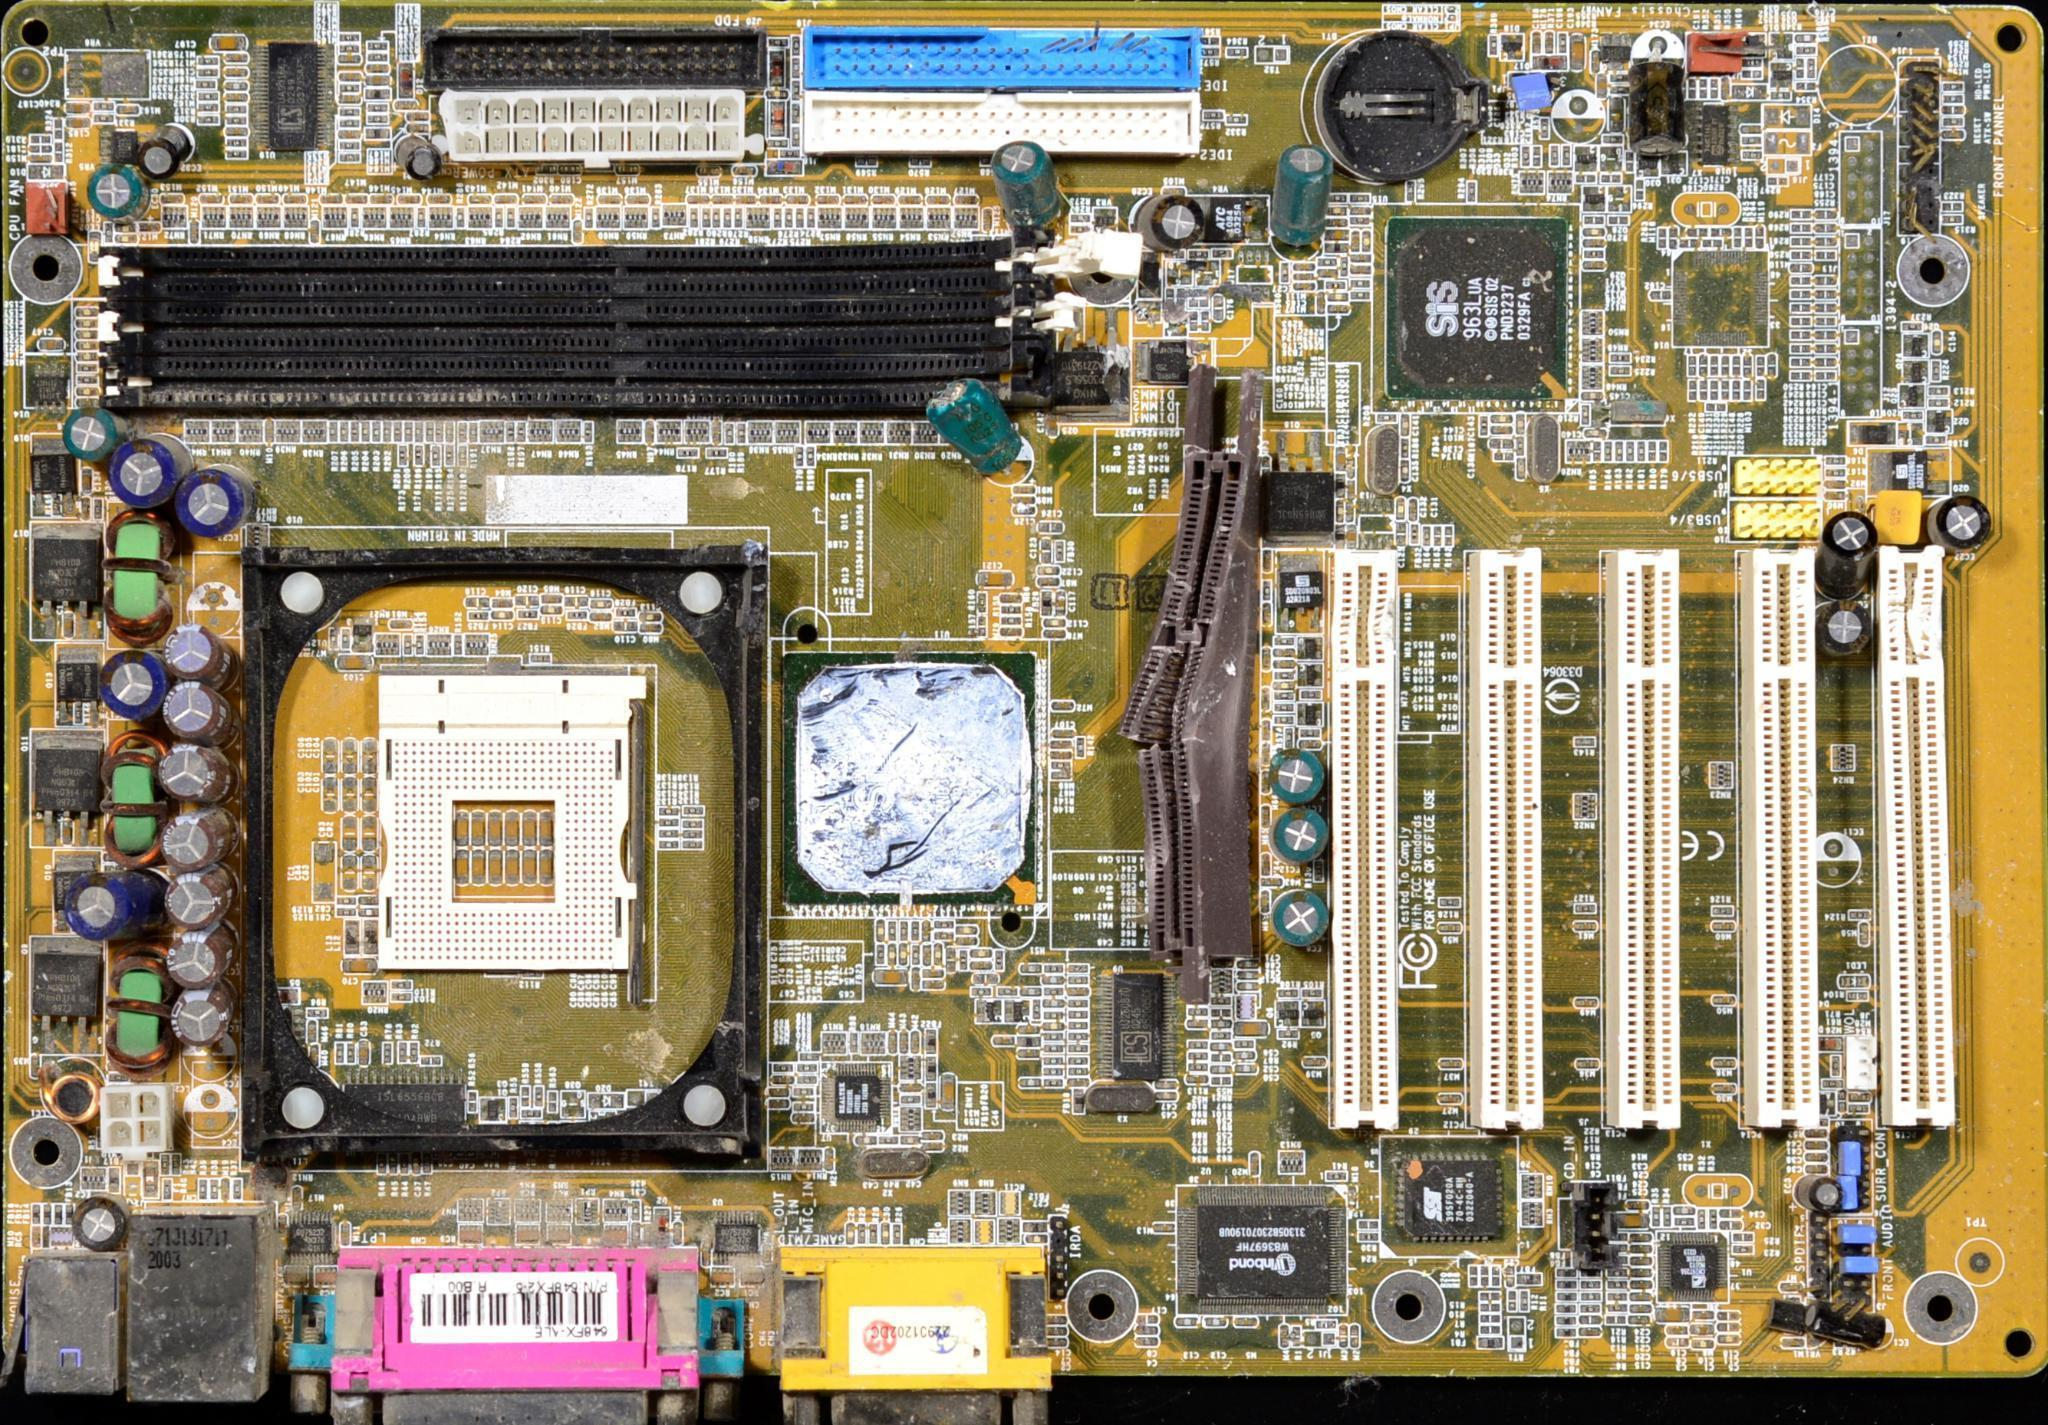Capacitor: (180, 463, 247, 547), (106, 437, 179, 507), (96, 651, 168, 719), (156, 740, 226, 802), (56, 410, 127, 470), (159, 621, 223, 682), (1271, 805, 1330, 868), (1271, 746, 1329, 806), (1272, 890, 1331, 944), (161, 684, 216, 738), (831, 1074, 886, 1116), (312, 839, 337, 900), (207, 33, 250, 51), (335, 654, 376, 672), (339, 857, 358, 891), (361, 739, 378, 774), (341, 818, 358, 852), (1654, 1307, 1691, 1322), (343, 817, 358, 852), (324, 776, 339, 811), (361, 779, 377, 814), (873, 969, 907, 984), (1609, 97, 1624, 131), (322, 740, 338, 774), (346, 777, 359, 814), (344, 958, 377, 974), (1234, 1021, 1268, 1035), (1572, 34, 1585, 71), (35, 338, 65, 351), (362, 816, 374, 854), (344, 742, 357, 774), (1583, 226, 1607, 241), (358, 1040, 370, 1068), (1323, 229, 1349, 241), (225, 67, 252, 79), (118, 104, 143, 116), (1557, 29, 1569, 53), (897, 941, 907, 967), (1804, 1139, 1830, 1150), (66, 102, 90, 113), (225, 105, 248, 116), (1026, 1232, 1047, 1244), (1632, 1290, 1654, 1302), (1135, 1337, 1159, 1347), (1057, 590, 1066, 617), (1713, 1058, 1736, 1069), (65, 116, 89, 128), (1631, 1254, 1654, 1264), (1630, 1267, 1652, 1277), (1134, 1325, 1158, 1336), (366, 64, 389, 75), (1692, 1322, 1712, 1334), (1043, 618, 1069, 627), (1438, 923, 1460, 933), (632, 1199, 643, 1221), (1695, 1312, 1716, 1322), (1204, 1315, 1227, 1325), (1324, 217, 1346, 227), (1328, 304, 1350, 314), (1803, 1153, 1829, 1162), (1666, 1326, 1692, 1334), (1038, 565, 1063, 574), (1069, 987, 1089, 997), (1691, 1338, 1712, 1348), (1350, 264, 1370, 275), (1327, 293, 1347, 303), (1544, 31, 1554, 51), (1597, 75, 1606, 98), (1687, 76, 1696, 100), (227, 95, 250, 104), (1438, 1059, 1461, 1069), (1629, 1279, 1653, 1288), (1717, 1334, 1740, 1344), (1647, 439, 1656, 462), (1574, 998, 1600, 1006), (1804, 1164, 1830, 1172), (1173, 1318, 1200, 1326), (224, 55, 251, 63), (1017, 1025, 1037, 1036), (1713, 1085, 1735, 1093), (881, 1223, 890, 1244), (1351, 230, 1360, 252), (1315, 292, 1325, 314), (1932, 333, 1940, 354), (1659, 441, 1668, 462), (1574, 922, 1598, 930), (336, 55, 361, 63), (339, 72, 364, 80), (876, 919, 885, 940), (993, 1035, 1013, 1044), (1439, 1094, 1460, 1103), (1293, 272, 1313, 281), (923, 980, 946, 988), (1711, 996, 1733, 1004), (1806, 1118, 1828, 1127), (1806, 1130, 1828, 1137), (1630, 1234, 1652, 1241), (1628, 1314, 1651, 1322), (1234, 1317, 1257, 1325), (1280, 1326, 1287, 1348), (1292, 1326, 1300, 1349), (1348, 207, 1371, 214), (1362, 231, 1370, 254), (1533, 33, 1540, 56), (1326, 206, 1345, 214), (225, 83, 248, 90), (846, 1222, 855, 1244), (1630, 1305, 1651, 1313), (1317, 1321, 1338, 1329), (1636, 180, 1644, 203), (1807, 57, 1815, 79), (1625, 153, 1632, 172), (1583, 263, 1603, 270), (1317, 270, 1337, 278), (1273, 681, 1294, 689), (223, 130, 248, 137), (367, 76, 390, 83), (888, 944, 895, 968), (1135, 1314, 1153, 1323), (1349, 1327, 1357, 1346), (1294, 283, 1316, 290), (1626, 1202, 1648, 1209), (1350, 255, 1371, 262), (926, 969, 943, 977), (1712, 924, 1732, 931), (339, 131, 360, 137), (1592, 52, 1599, 72), (1630, 1247, 1654, 1252), (1294, 264, 1315, 269), (1340, 1326, 1345, 1346), (1578, 1059, 1605, 1062)
Connector: (1878, 547, 1961, 1133), (1738, 549, 1818, 1129), (1464, 548, 1542, 1133), (1600, 548, 1676, 1133), (103, 359, 1020, 405), (1331, 550, 1402, 1127), (94, 247, 1011, 287), (98, 289, 1016, 322), (104, 329, 1016, 354), (424, 28, 766, 88)
IC: (1383, 217, 1563, 402), (1190, 1200, 1345, 1306), (1391, 1151, 1505, 1244), (1097, 973, 1175, 1079), (268, 41, 318, 150), (34, 536, 101, 604), (37, 750, 97, 816), (1667, 1241, 1716, 1295), (57, 661, 94, 700), (29, 371, 66, 407), (981, 569, 1013, 585), (942, 1073, 953, 1107), (1014, 484, 1038, 495)
Resistor: (363, 980, 388, 1005), (1857, 921, 1870, 949), (704, 445, 730, 458), (675, 445, 698, 459), (1236, 1062, 1258, 1076), (1795, 35, 1816, 46), (1489, 439, 1514, 450), (792, 444, 804, 465), (1066, 1032, 1089, 1043), (335, 1043, 345, 1065), (1066, 1055, 1089, 1065), (771, 1075, 793, 1086), (1504, 1267, 1514, 1290), (1479, 1312, 1501, 1323), (1583, 215, 1606, 225), (1609, 366, 1632, 376), (429, 443, 441, 466), (399, 443, 410, 467), (1226, 47, 1249, 57), (908, 922, 919, 942), (304, 1008, 330, 1018), (445, 442, 454, 468), (1698, 78, 1709, 99), (338, 94, 359, 104), (1042, 1053, 1064, 1064), (1719, 1220, 1741, 1230), (1479, 1266, 1489, 1288), (1814, 290, 1837, 301), (1491, 416, 1512, 426), (371, 420, 381, 442), (413, 445, 423, 467), (1040, 1046, 1064, 1054), (367, 111, 386, 123), (1605, 1243, 1629, 1253), (1814, 331, 1839, 340), (1741, 355, 1751, 379), (328, 419, 338, 443), (458, 444, 467, 468), (957, 935, 978, 946), (997, 987, 1017, 997), (346, 1042, 356, 1063), (769, 1099, 789, 1109), (340, 106, 359, 117), (793, 1113, 814, 1123), (1581, 1290, 1601, 1301), (1479, 1291, 1499, 1302), (1669, 229, 1679, 249), (1274, 691, 1295, 701), (194, 79, 218, 88), (196, 90, 219, 100), (995, 948, 1004, 971), (973, 974, 996, 983), (1043, 975, 1066, 984), (1044, 998, 1067, 1008), (796, 1075, 818, 1085), (1941, 116, 1964, 126), (1561, 145, 1570, 168), (1789, 291, 1813, 300), (1813, 303, 1837, 313), (505, 419, 515, 442), (517, 420, 526, 443), (806, 445, 816, 469), (1275, 635, 1298, 644), (1259, 647, 1269, 670), (1259, 687, 1269, 711), (1051, 701, 1074, 711), (1260, 805, 1269, 831), (1610, 72, 1629, 82), (887, 921, 896, 943), (1021, 963, 1040, 974), (1043, 986, 1064, 995), (1042, 1010, 1064, 1019), (1067, 1021, 1087, 1031), (1043, 1022, 1064, 1031), (1067, 1045, 1090, 1054), (1209, 1052, 1231, 1061), (196, 102, 218, 112), (793, 1087, 816, 1097), (794, 1101, 815, 1111), (199, 1177, 208, 1200), (233, 1178, 242, 1199), (208, 1178, 218, 1200), (1490, 1268, 1499, 1289), (1047, 1326, 1066, 1336), (1742, 151, 1763, 160), (1533, 146, 1542, 168), (1349, 217, 1371, 226), (1658, 229, 1667, 250), (1790, 332, 1812, 341), (361, 421, 370, 443), (1924, 434, 1945, 443), (1394, 523, 1404, 544), (1261, 853, 1268, 877), (1261, 889, 1268, 913), (1237, 972, 1262, 980), (910, 968, 918, 992), (899, 1030, 907, 1054), (825, 1147, 833, 1172), (1022, 1222, 1048, 1231), (898, 921, 907, 941), (876, 942, 885, 963), (911, 944, 919, 964), (970, 961, 990, 970), (1068, 976, 1088, 984), (1847, 990, 1868, 999), (1068, 998, 1088, 1008), (1277, 1031, 1298, 1041), (1186, 1040, 1206, 1050), (773, 1064, 794, 1074), (1358, 1219, 1379, 1229), (893, 1223, 902, 1243), (868, 1224, 877, 1244), (1607, 1270, 1628, 1278), (1741, 135, 1762, 145), (1601, 174, 1622, 183), (1814, 276, 1835, 285), (1791, 318, 1812, 326), (1610, 352, 1631, 361), (1516, 415, 1525, 435), (339, 420, 349, 441), (383, 422, 392, 442), (1636, 441, 1645, 460), (1824, 454, 1844, 463), (1825, 490, 1846, 499), (1796, 47, 1816, 56), (1433, 524, 1442, 545), (367, 52, 388, 60), (1261, 721, 1270, 741), (1053, 729, 1074, 739), (960, 948, 971, 965), (1438, 897, 1462, 906), (934, 943, 942, 966), (948, 949, 955, 973), (1237, 983, 1260, 991), (971, 988, 994, 995), (910, 1029, 918, 1052), (888, 1031, 896, 1055), (769, 1089, 792, 1097), (1479, 1302, 1501, 1310), (1406, 182, 1413, 205), (1731, 378, 1739, 401), (351, 420, 359, 444), (1516, 458, 1523, 481), (1574, 905, 1592, 915), (1849, 909, 1868, 918), (1067, 1010, 1087, 1019), (1849, 1103, 1868, 1113), (1708, 1211, 1718, 1229), (1046, 1316, 1065, 1325), (1048, 1337, 1066, 1346), (1744, 228, 1754, 248), (1514, 437, 1523, 456), (1076, 737, 1084, 756), (1940, 81, 1963, 89), (1712, 907, 1733, 915), (1068, 965, 1089, 972), (850, 1032, 857, 1053), (1017, 1050, 1039, 1058), (1234, 1051, 1256, 1059), (93, 102, 115, 110), (1849, 1093, 1871, 1101), (1837, 1091, 1844, 1112), (94, 115, 115, 123), (1661, 1204, 1669, 1226), (1732, 1232, 1754, 1240), (1943, 130, 1965, 139), (225, 140, 247, 148), (1550, 145, 1558, 167), (1734, 227, 1741, 249), (1790, 264, 1812, 272), (1279, 263, 1287, 284), (1711, 355, 1718, 376), (1926, 387, 1949, 395), (468, 421, 476, 444), (1272, 649, 1294, 657), (1942, 106, 1968, 112), (1927, 398, 1953, 405), (1582, 1269, 1600, 1279), (1711, 78, 1718, 98), (1262, 879, 1283, 887), (1610, 85, 1631, 94), (933, 932, 954, 940), (923, 944, 931, 965), (1237, 960, 1258, 968), (1044, 963, 1065, 971), (1042, 1034, 1063, 1043), (367, 102, 388, 110), (1831, 1057, 1840, 1077), (796, 1065, 816, 1073), (1210, 1076, 1231, 1085), (857, 1224, 866, 1245), (1606, 1255, 1626, 1263), (1471, 1266, 1478, 1287), (1741, 125, 1762, 133), (1555, 1291, 1575, 1299), (1508, 1290, 1515, 1310), (1555, 1307, 1575, 1314), (1522, 146, 1529, 166), (1576, 174, 1597, 182), (1467, 181, 1476, 201), (1350, 292, 1370, 300), (1720, 356, 1728, 376), (1698, 380, 1706, 400), (1720, 381, 1728, 401), (1274, 661, 1295, 669), (1273, 671, 1294, 678), (1796, 58, 1803, 78), (1273, 703, 1294, 711), (1050, 753, 1071, 761), (1051, 771, 1076, 778), (855, 1134, 879, 1140), (1261, 769, 1267, 792), (920, 921, 928, 940), (1021, 988, 1039, 996), (1211, 1032, 1230, 1039), (1234, 1041, 1253, 1048), (1188, 1062, 1206, 1070), (881, 1136, 900, 1143), (1673, 1217, 1692, 1225), (1358, 1233, 1377, 1241), (1610, 1234, 1627, 1243), (1557, 1270, 1575, 1277), (1608, 1280, 1626, 1288), (1609, 216, 1628, 224), (1743, 380, 1750, 399), (368, 41, 386, 48), (1604, 442, 1613, 461), (1824, 481, 1848, 487), (1445, 526, 1454, 545), (887, 942, 894, 965), (338, 141, 359, 148), (1901, 410, 1923, 417), (1397, 498, 1403, 519), (1614, 443, 1621, 460), (1941, 95, 1961, 101), (922, 1142, 942, 1148), (338, 43, 358, 50), (1425, 525, 1432, 544), (1273, 717, 1294, 724), (1052, 742, 1072, 749), (1210, 1042, 1230, 1049), (1699, 1209, 1706, 1227), (1351, 280, 1370, 287), (974, 950, 992, 957), (1050, 762, 1068, 768), (226, 119, 247, 123), (1557, 1319, 1578, 1324), (1556, 1282, 1577, 1287), (1263, 743, 1268, 764), (1581, 1280, 1611, 1284), (933, 921, 953, 926), (902, 1136, 921, 1141), (1580, 1316, 1598, 1321), (1822, 1080, 1849, 1082), (958, 926, 976, 931), (1033, 1001, 1037, 1019), (922, 1135, 942, 1137)
Transistor: (1866, 449, 1950, 496), (342, 921, 361, 954), (362, 922, 378, 953)
